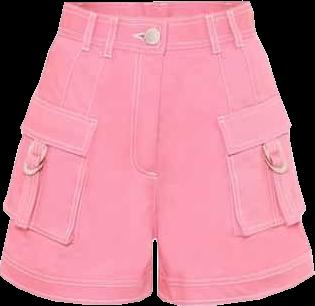Hemline: (155, 272, 314, 305), (0, 270, 153, 304)
Pantleg: (0, 1, 168, 304), (154, 1, 314, 305)
Waistline: (56, 30, 258, 52), (63, 1, 250, 23)
